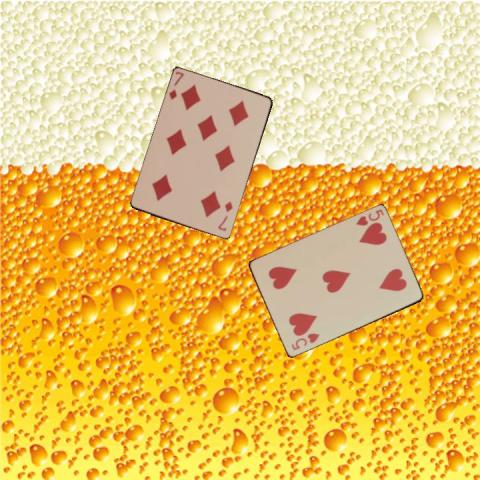5h: (288, 330, 321, 351), (353, 206, 385, 227)
7d: (215, 198, 234, 232), (166, 69, 185, 101)
